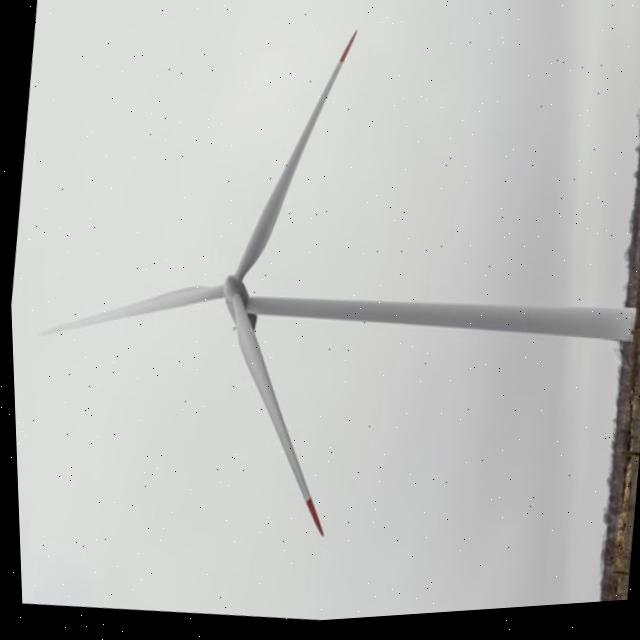solid-blade: (233, 38, 353, 282), (228, 295, 307, 508), (37, 287, 221, 333)
wind-turbine: (40, 38, 629, 537)
